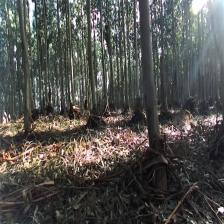trunk: (139, 7, 167, 196), (18, 7, 33, 134), (86, 9, 100, 121)
